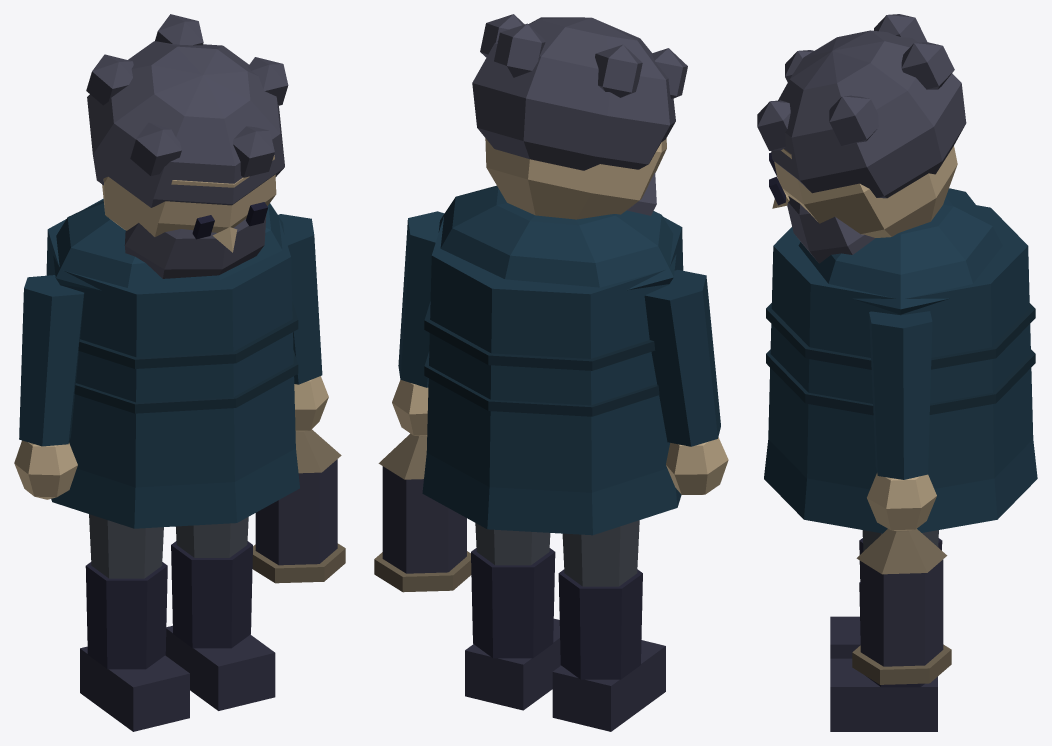
Rendered from dunstan.glb.
The picture shows the model from 3 angles, left to right: view 1: azimuth 30°, elevation 25°; view 2: azimuth 150°, elevation 25°; view 3: azimuth 270°, elevation 25°; orthographic projection. The views are drawn at different scales.
Visible parts, largest first — view 1: Torso, Head, LegR, LegL, ArmL, ArmR; view 2: Torso, Head, LegR, ArmL, LegL, ArmR; view 3: Torso, Head, ArmL, LegL, LegR.
Boxes of the visible parts, x1,y1,x2,y2 form: Torso: (46,198,299,528); Head: (86,14,288,278); LegR: (80,514,189,731); LegL: (165,517,275,710); ArmL: (252,214,345,583); ArmR: (14,275,84,499); Torso: (422,185,683,535); Head: (472,14,687,219); LegR: (552,520,665,731); ArmL: (374,211,471,592); LegL: (465,523,560,710); ArmR: (644,270,728,494); Torso: (764,188,1037,533); Head: (757,14,966,263); ArmL: (852,311,951,684); LegL: (830,530,938,731); LegR: (830,538,942,658).
Bounding box in the file's own units: 0.9733 × 1.91 × 0.7298.
